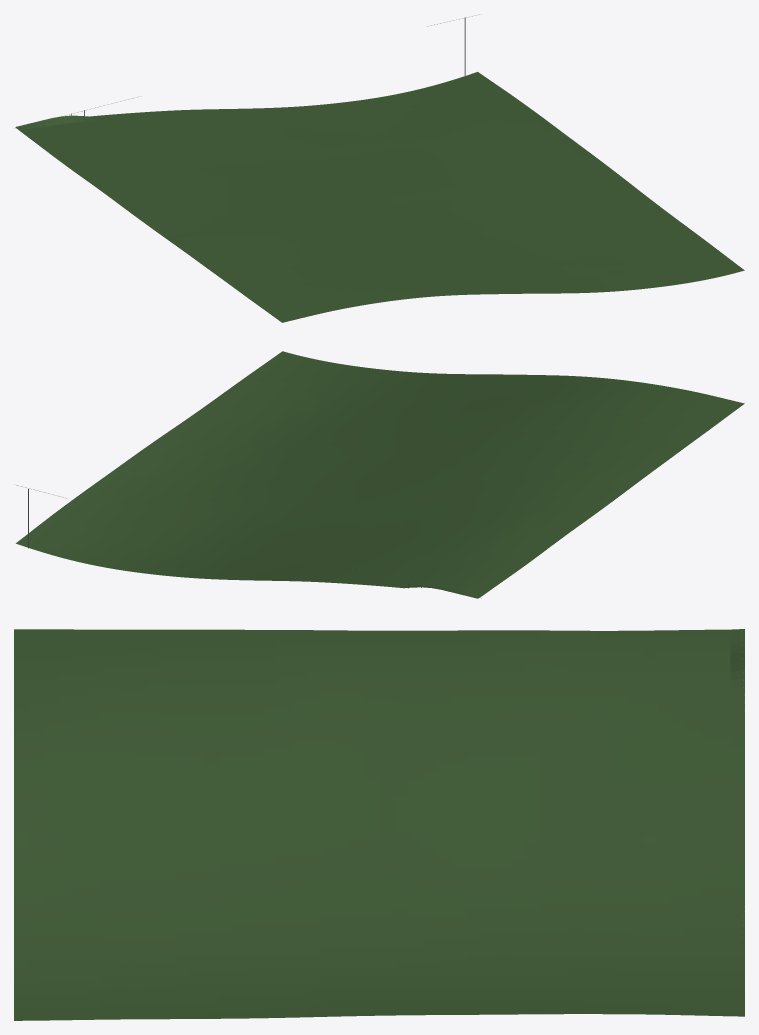
The model's file is chunk4-4_LOD0.obj.
3 views of the same model, one above another, from view 1: azimuth 30°, elevation 25°; view 2: azimuth 150°, elevation 25°; view 3: azimuth 270°, elevation 25° (orthographic). The views are drawn at different scales.
Visible parts, largest first — view 1: Terrain; view 2: Terrain; view 3: Terrain.
Boxes of the visible parts, <box> form: Terrain: <box>15,72,744,322</box>; Terrain: <box>16,351,744,598</box>; Terrain: <box>14,629,744,1020</box>.
Size of the model in its own units: 4042 by 506 by 4001.
